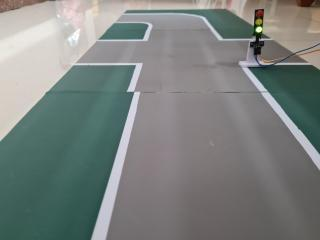green: (248, 6, 270, 40)
